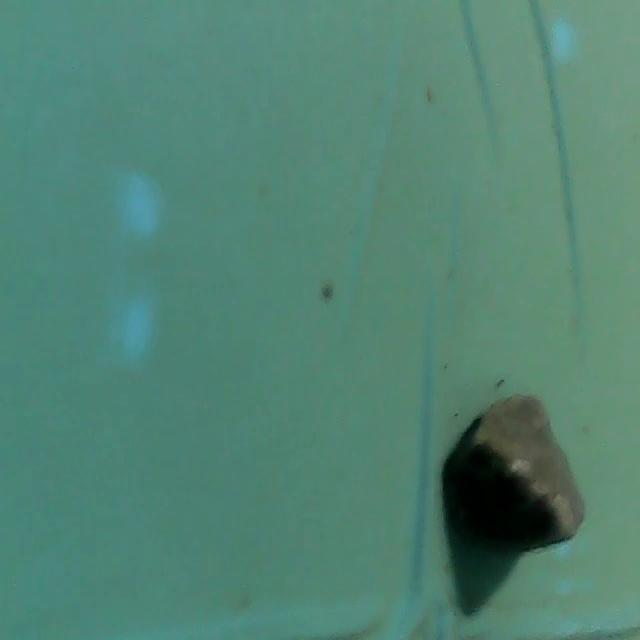rock: (455, 382, 597, 572)
